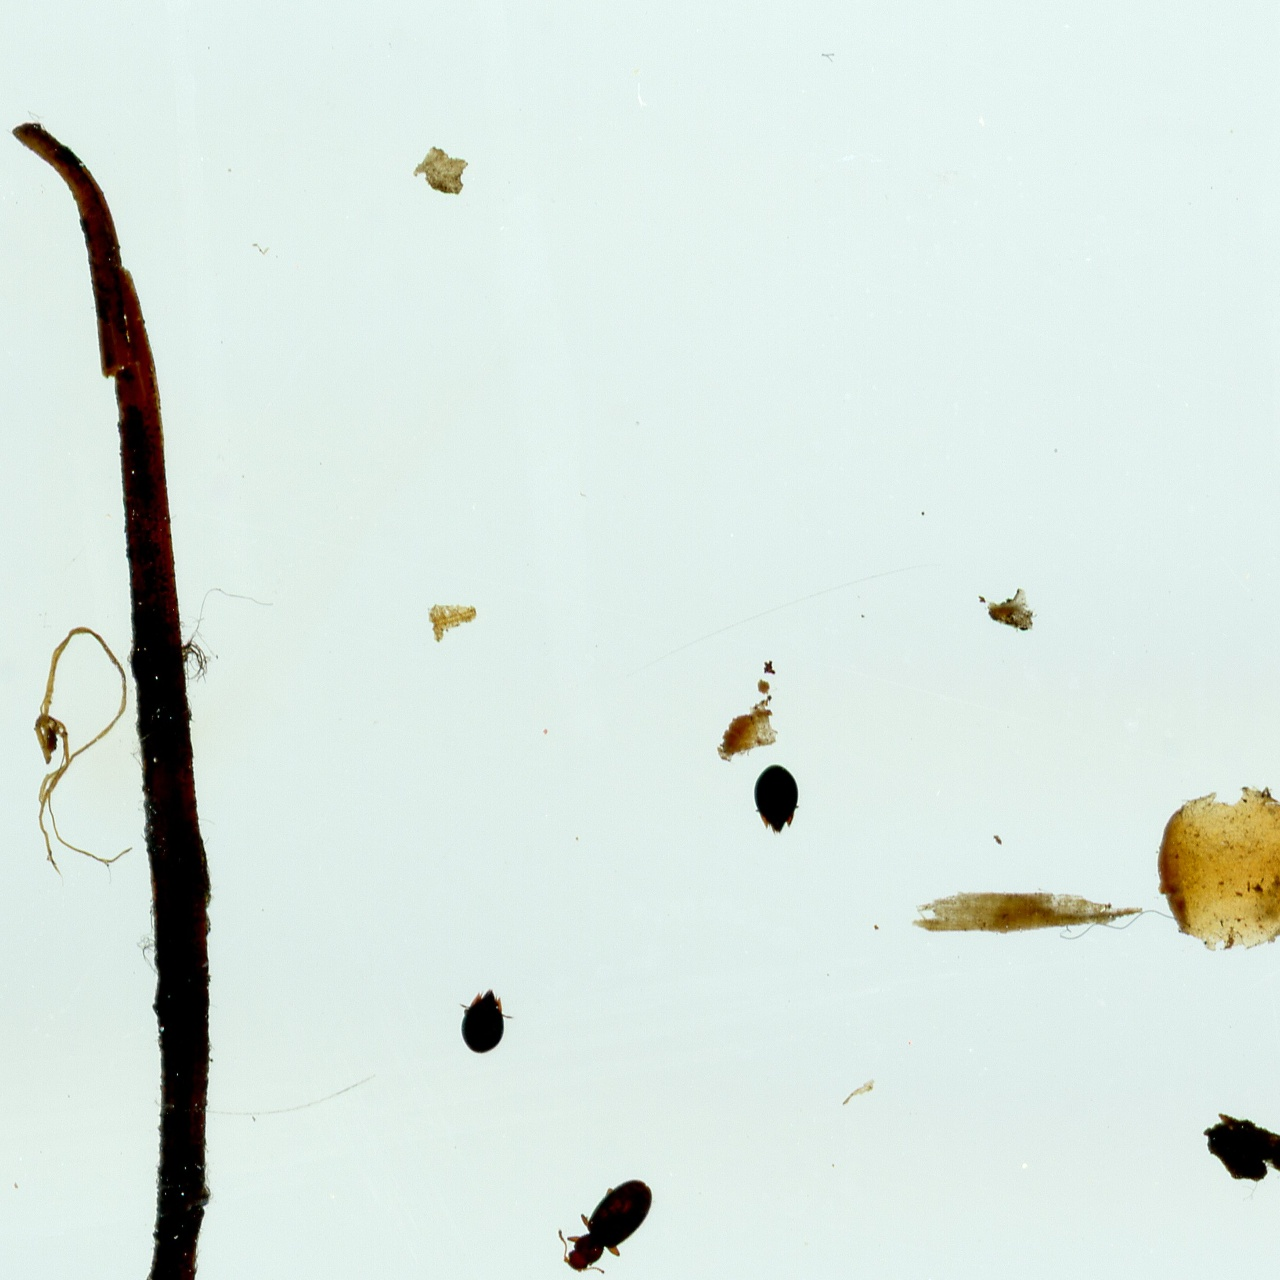arthropod: (539, 1155, 669, 1280), (454, 979, 513, 1062), (749, 756, 803, 843)
